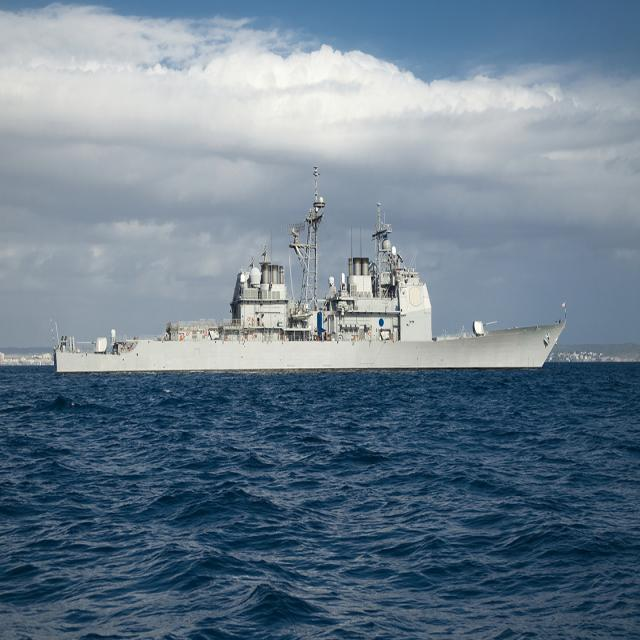navalvessels: (52, 176, 570, 384)
